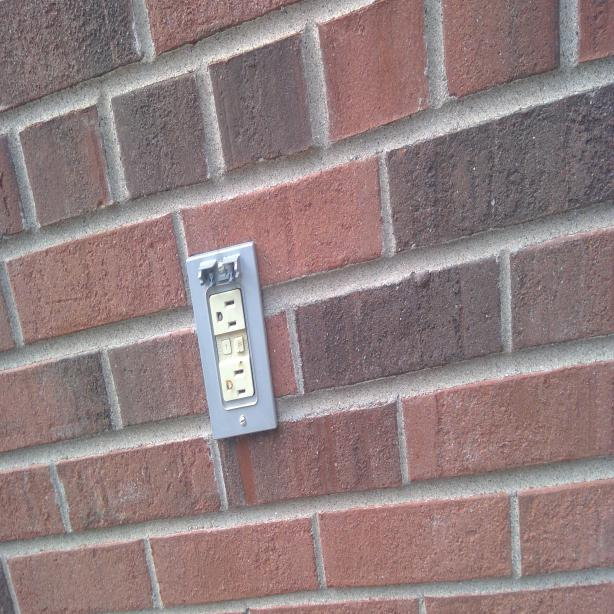typeb: (219, 360, 254, 404), (210, 292, 244, 334)
